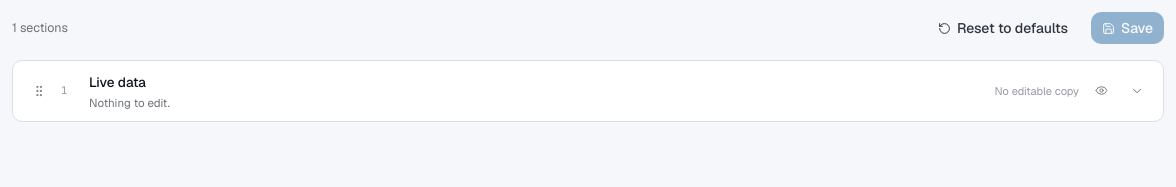
Test: section editor › a section with no fields says so rather than rendering an empty form
Click the button "Live data Nothing to edit." at (117, 82), box [89,71,986,111]
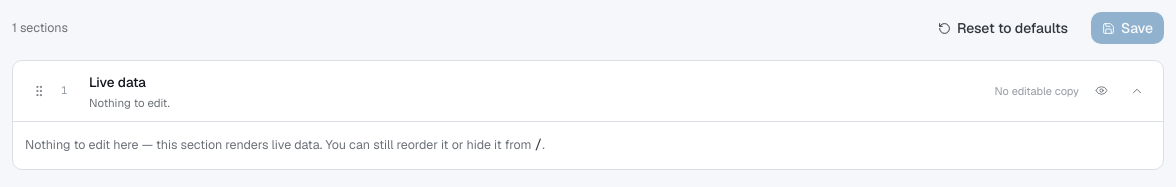
Check: the text "Nothing to edit here" is shown, box [25,136,535,153]
